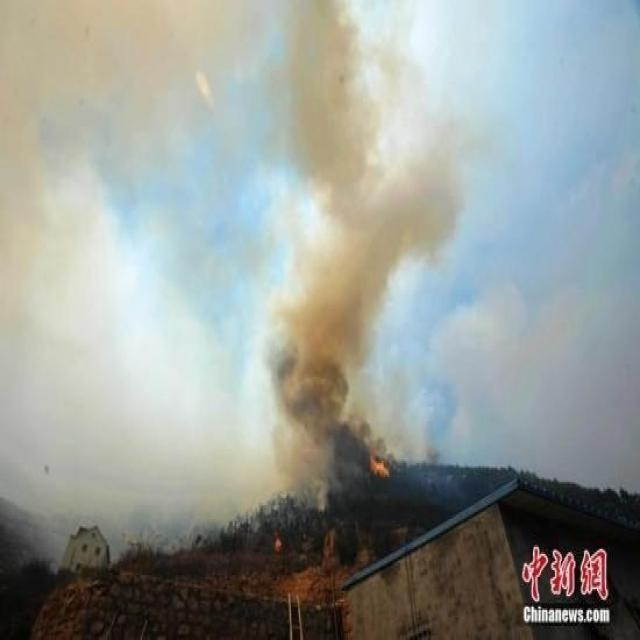Fire: (368, 448, 391, 481)
Smoke: (1, 2, 470, 577)
